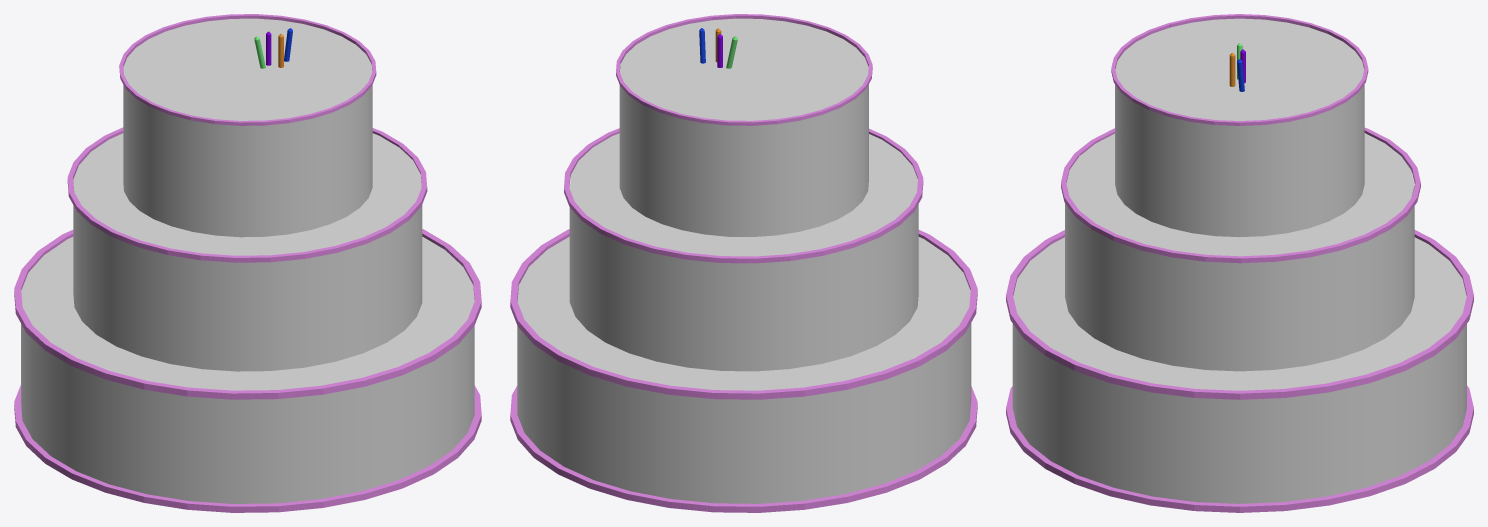
Rendered from cake.glb.
The picture shows the model from 3 angles, left to right: view 1: azimuth 30°, elevation 25°; view 2: azimuth 150°, elevation 25°; view 3: azimuth 270°, elevation 25°; orthographic projection.
Parts seen in each view (by area): view 1: Cylinder; view 2: Cylinder; view 3: Cylinder.
Part boxes in pixels (box(x1,y1,x2,y2)): Cylinder: box(14, 14, 481, 512); Cylinder: box(510, 14, 977, 512); Cylinder: box(1006, 14, 1473, 512).
Bounding box in the file's own units: 0.9372 × 0.8298 × 0.9372.
